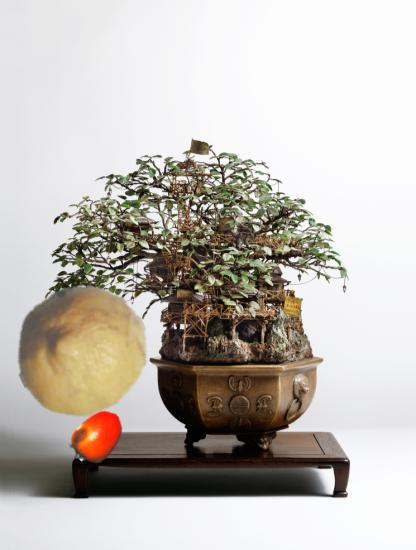Kaki: (69, 408, 127, 466)
Lemon: (14, 282, 149, 417)
